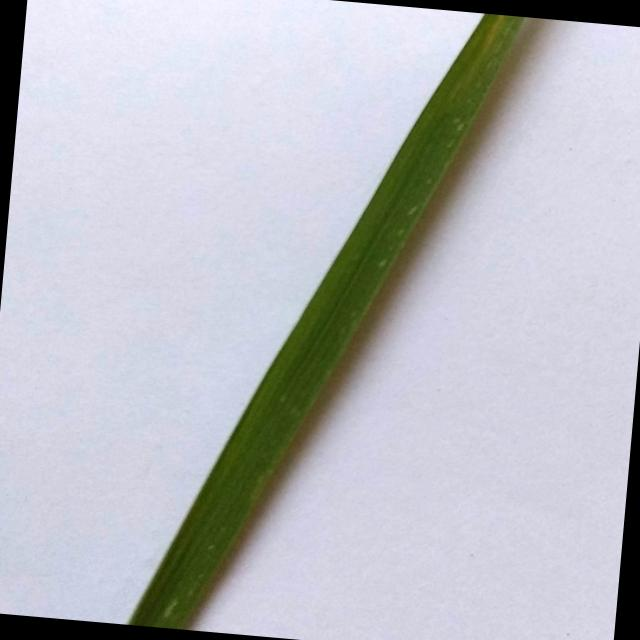Rice_Healthy: (128, 13, 524, 629)
